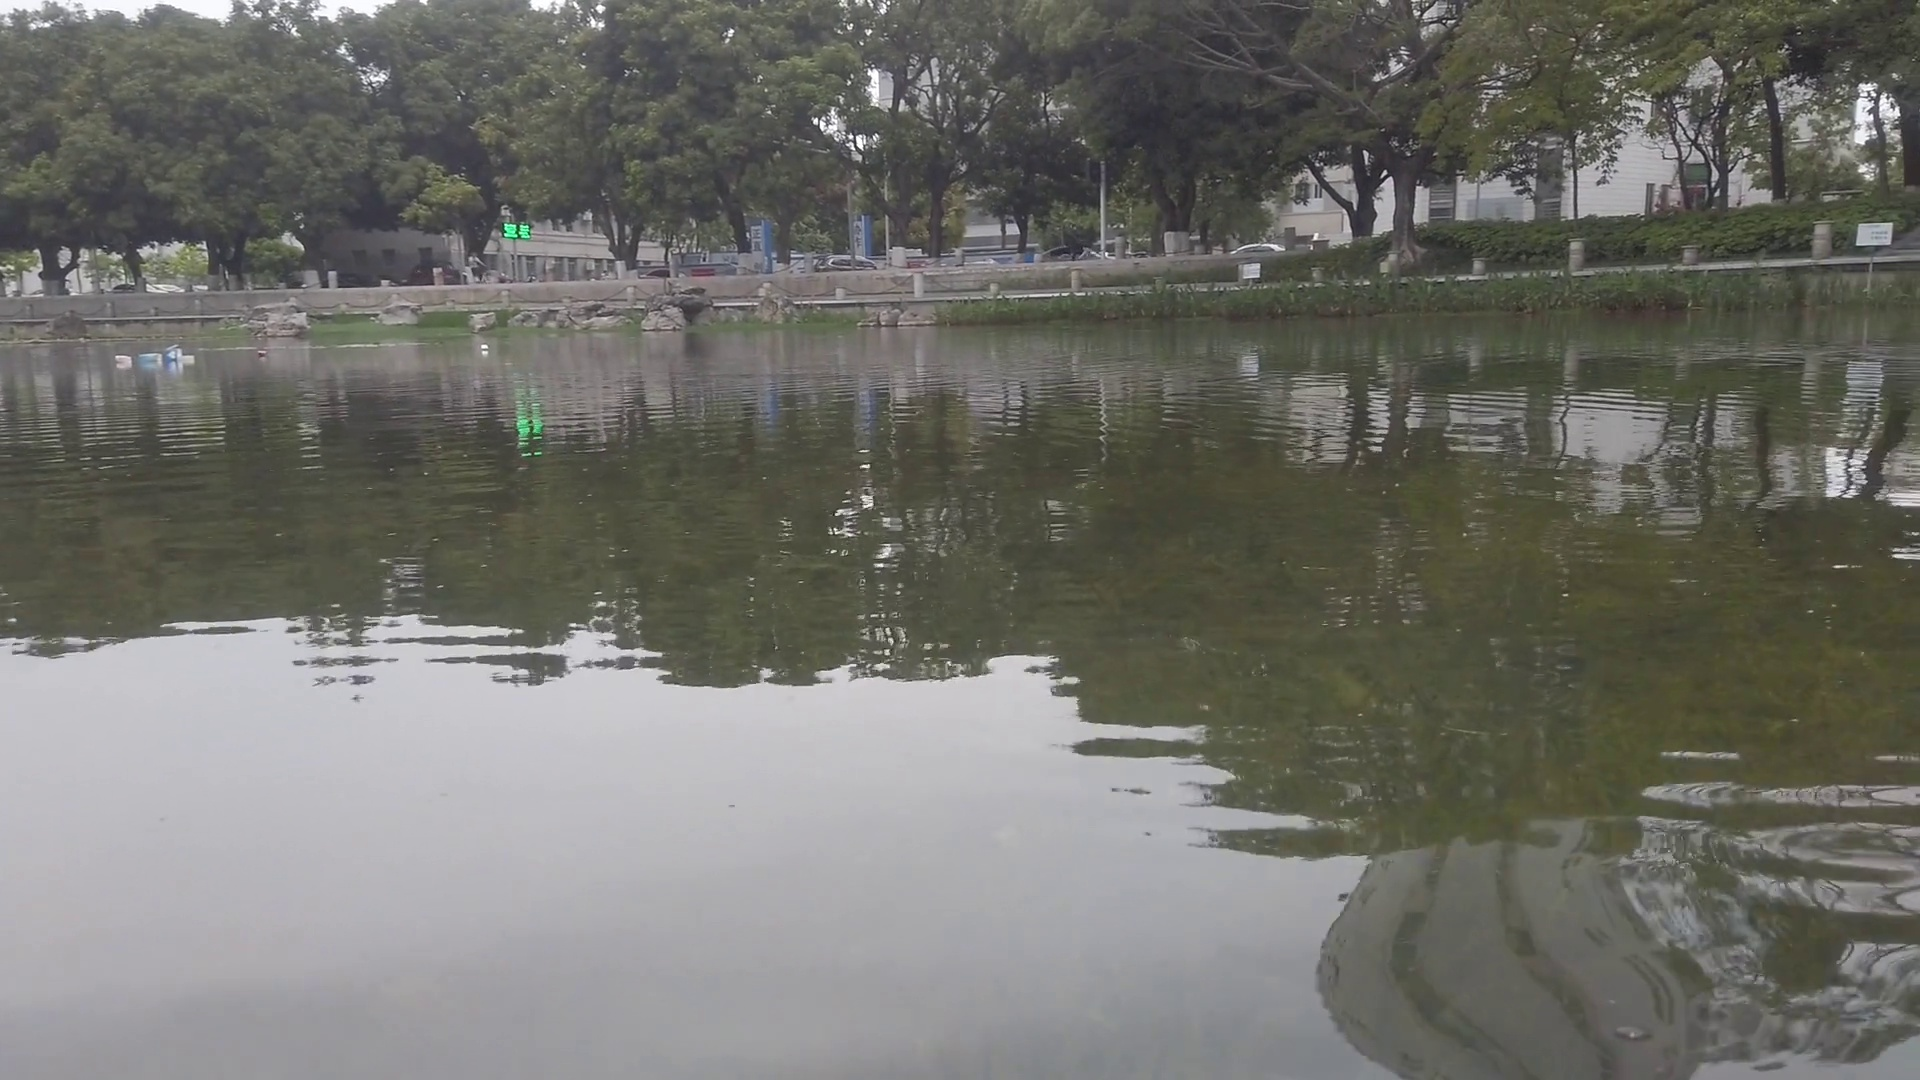bottle: (138, 352, 164, 364), (113, 353, 133, 365)
carton: (165, 347, 189, 363), (480, 344, 492, 351)
